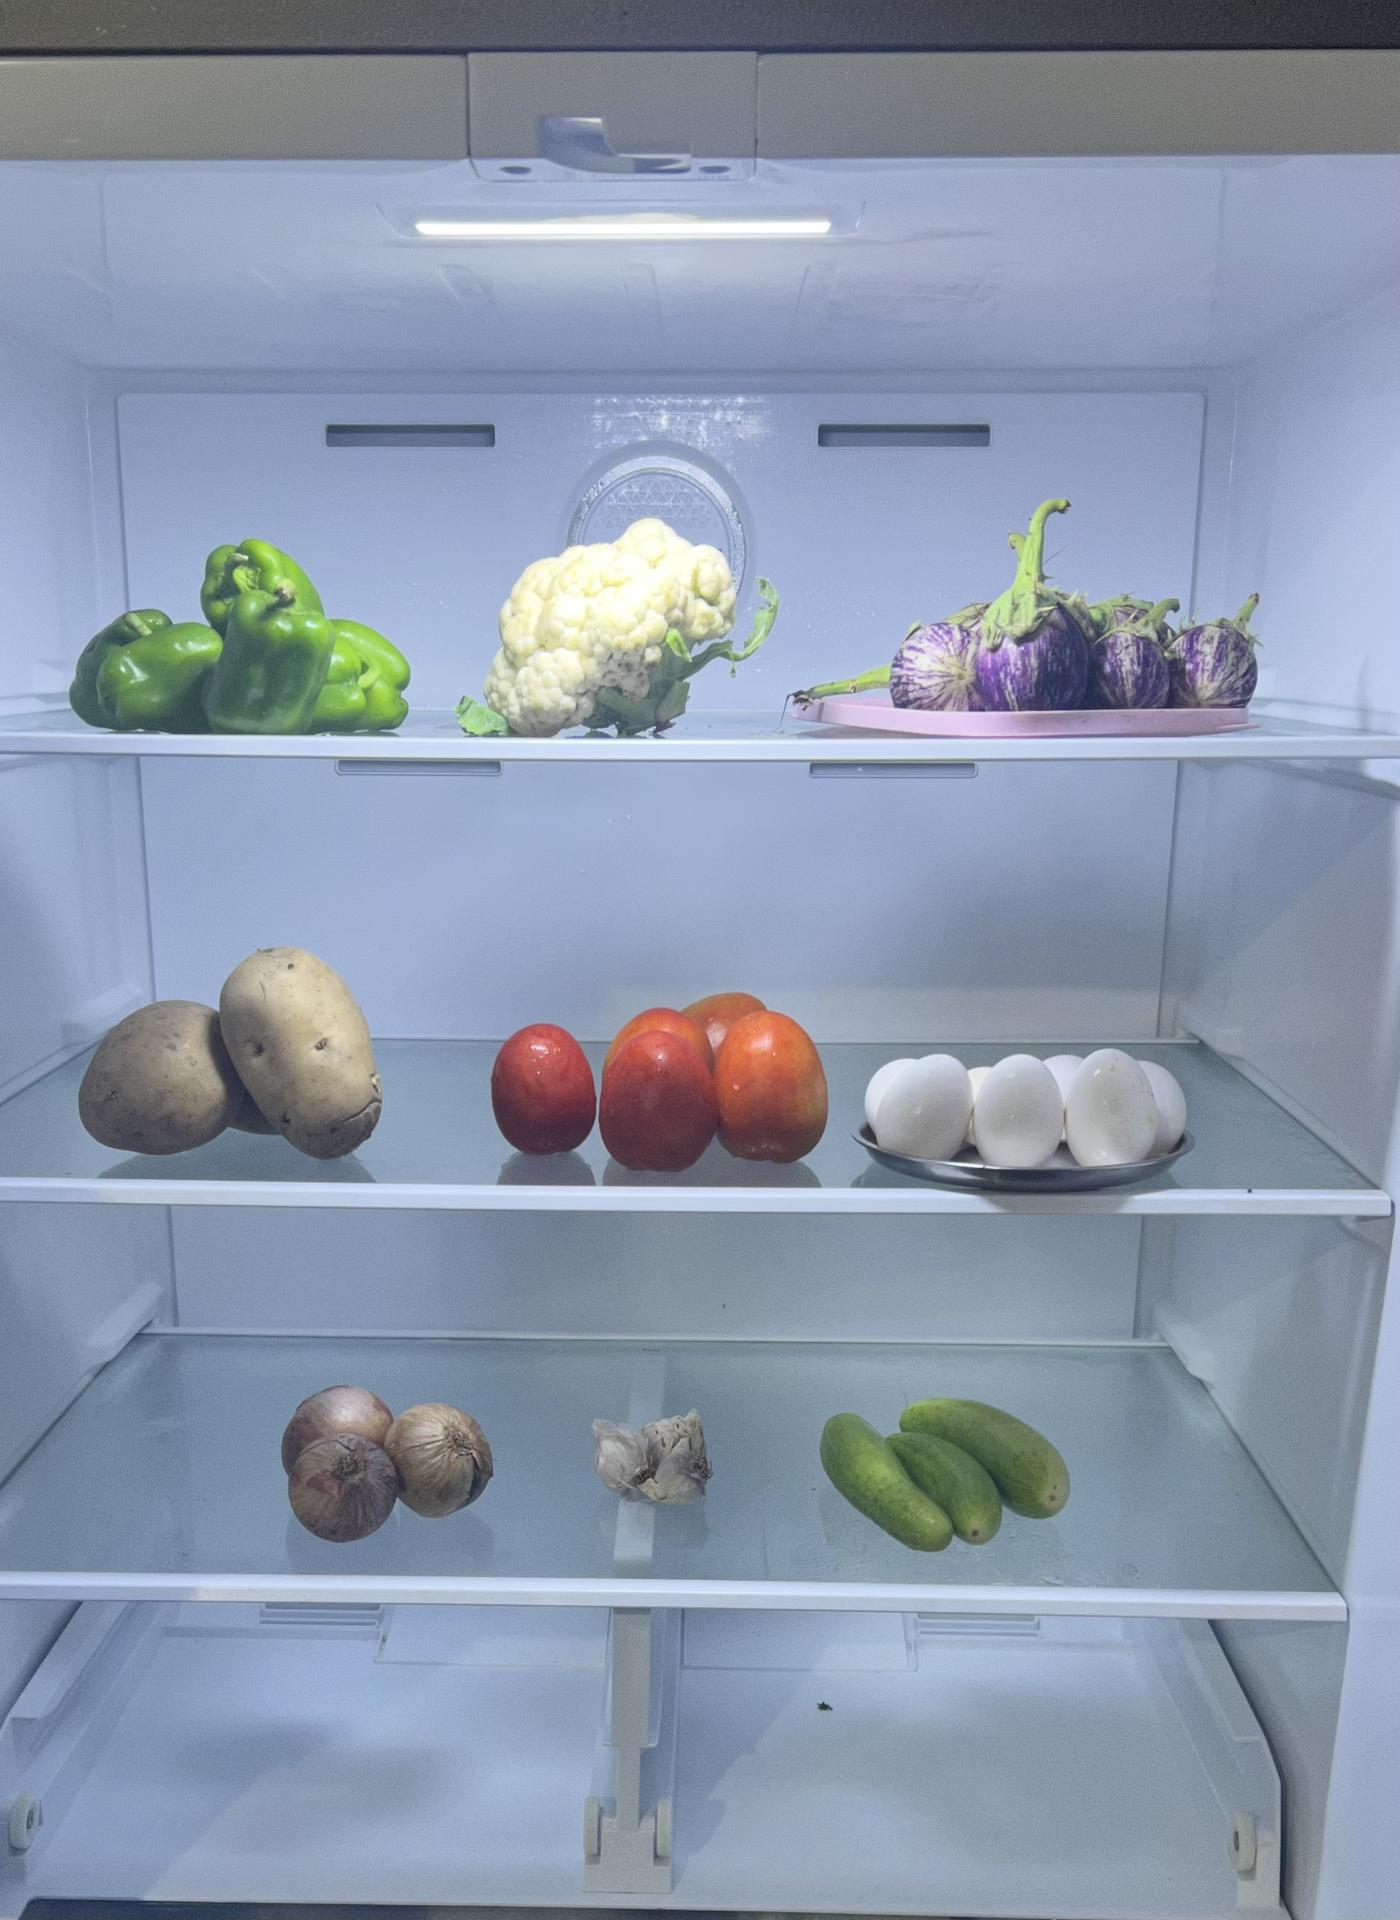brinjal: (860, 577, 1278, 724)
capsicum: (63, 537, 414, 730)
cauliflower: (482, 520, 742, 736)
cucumber: (822, 1394, 1072, 1552)
egg: (862, 1043, 1190, 1173)
garlic: (593, 1410, 717, 1509)
onion: (285, 1385, 501, 1541)
potato: (82, 944, 391, 1155)
tomato: (482, 991, 829, 1172)
